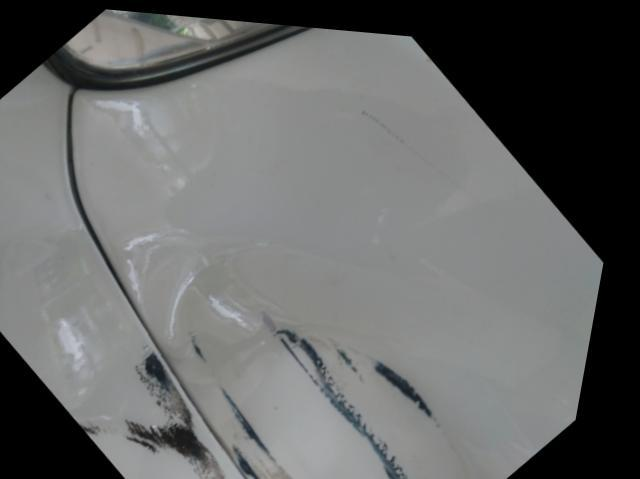dent: (110, 80, 481, 385)
scratch: (219, 328, 523, 479), (82, 335, 257, 479)
